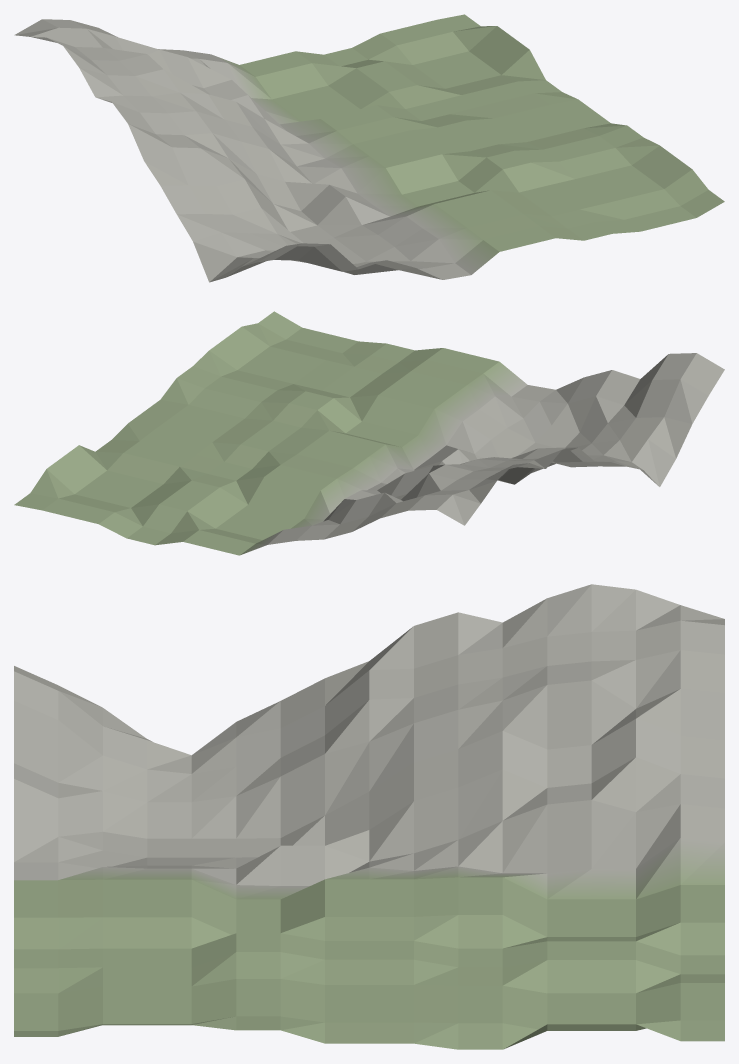
3 renders of one model, top to bottom at view 1: azimuth 30°, elevation 25°; view 2: azimuth 150°, elevation 25°; view 3: azimuth 270°, elevation 25°, orthographic. The views are drawn at different scales.
Size of the model in its own units: 32 by 8.91 by 32.
